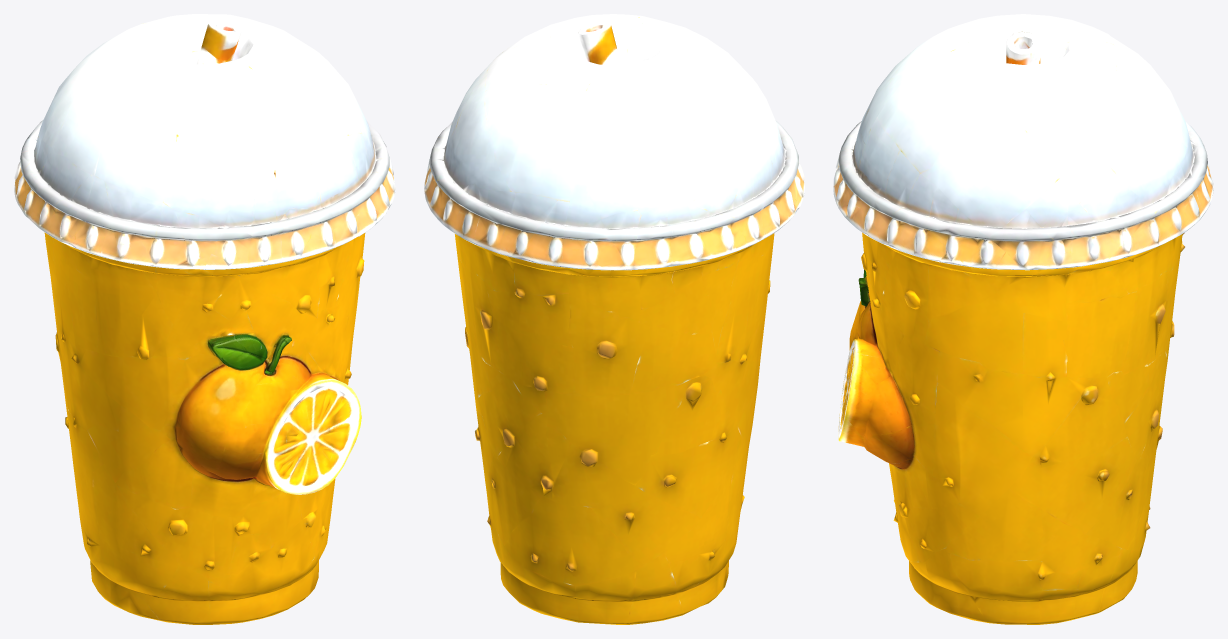
Rendered from dish_drink.glb.
3 renders of one model, left to right at view 1: azimuth 30°, elevation 25°; view 2: azimuth 150°, elevation 25°; view 3: azimuth 270°, elevation 25°, orthographic.
Size of the model in its own units: 1.19 by 1.9 by 1.19.
Materials: 1 (1 with a texture image).
